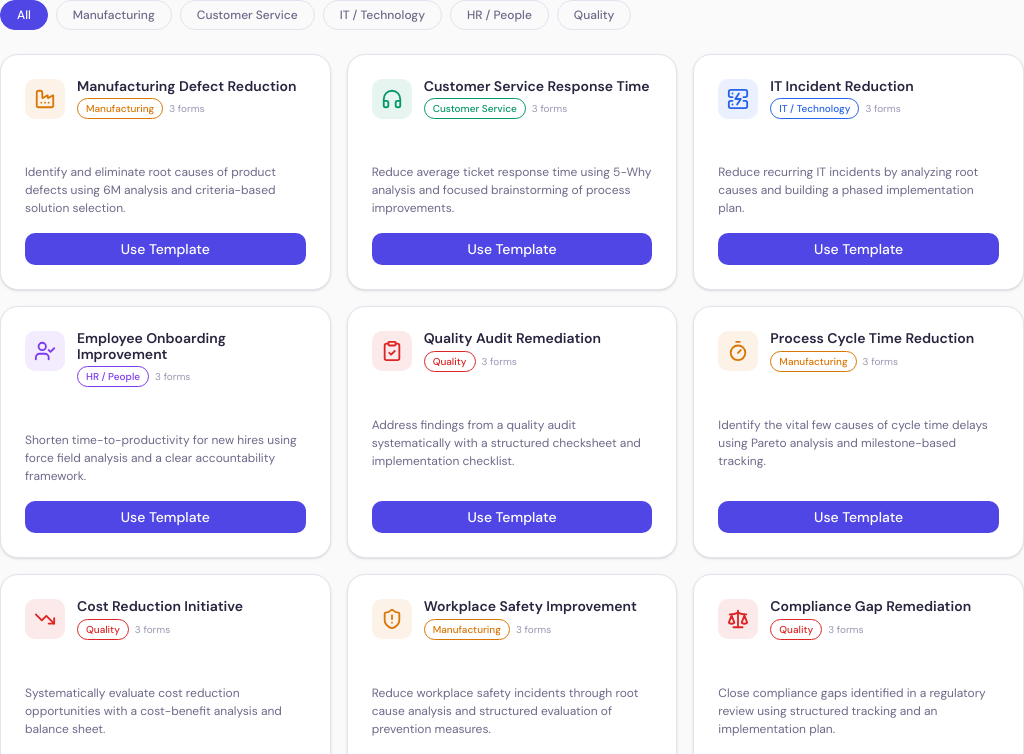
Test case: TemplateBrowser › enables create button when project name is typed
Click the button "Use Template" below "Manufacturing Defect Reduction" at (165, 249), box [25,233,306,265]
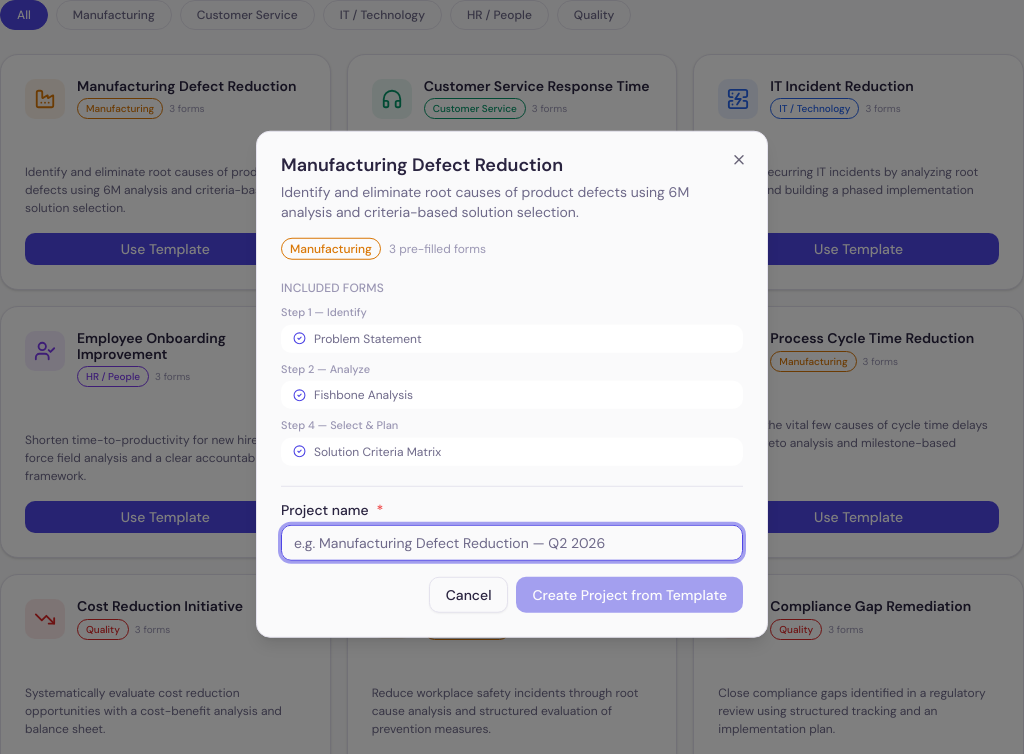
Type "My New Project" into the field with test id "template-project-name-input" at (512, 542), box [281,524,743,560]
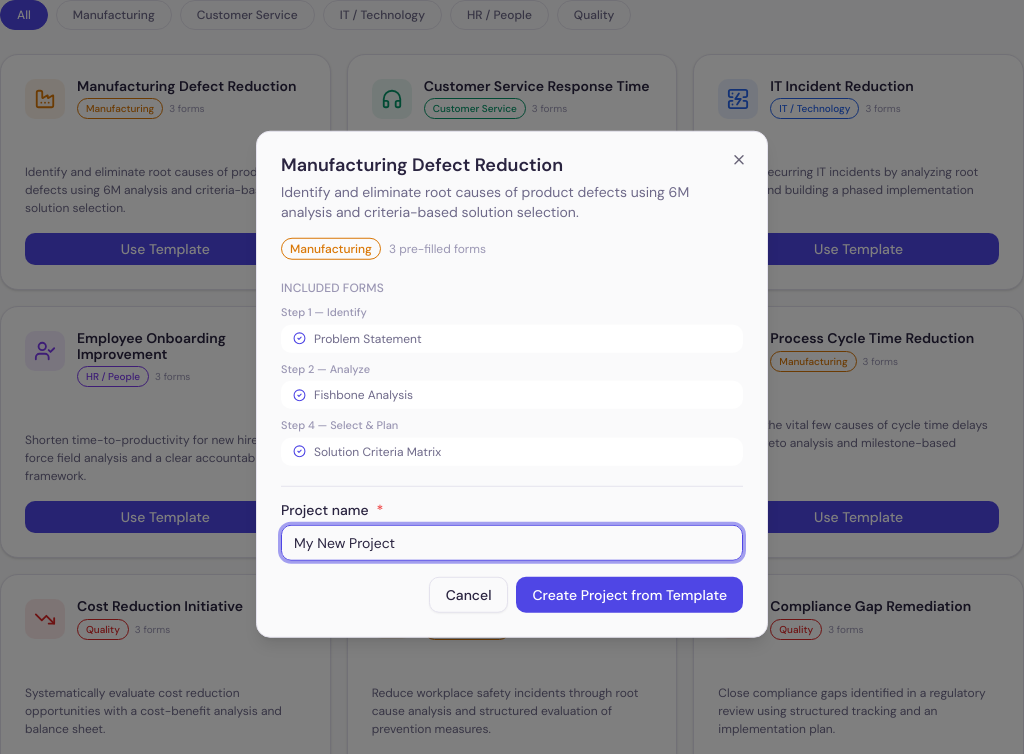
Expected: the button with test id "apply-dialog-submit" is enabled, [516,576,743,612]
